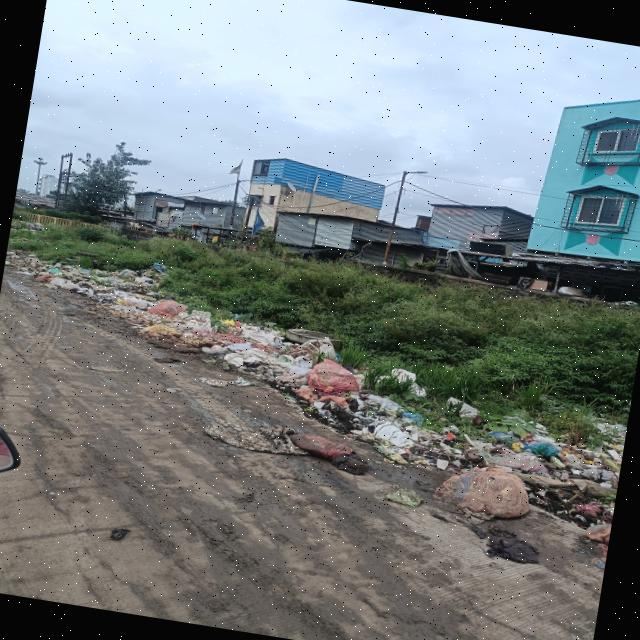garbage: (332, 380, 627, 525), (133, 305, 371, 418), (3, 246, 171, 322)
